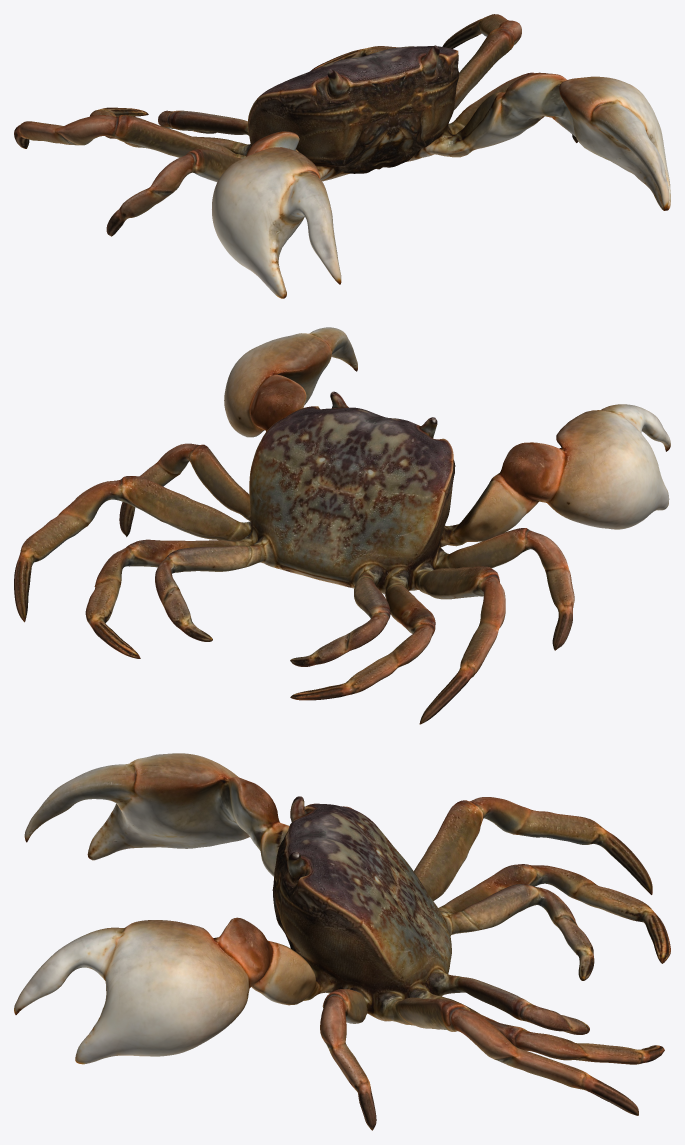
The model's file is crab.obj.
3 views of the same model, one above another, from view 1: azimuth 30°, elevation 25°; view 2: azimuth 150°, elevation 25°; view 3: azimuth 270°, elevation 25° (orthographic). The views are drawn at different scales.
Visible parts, largest first — view 1: smooth_shore_crab; view 2: smooth_shore_crab; view 3: smooth_shore_crab.
Boxes of the visible parts, bbox=[...] form: smooth_shore_crab: bbox=[14, 14, 670, 298]; smooth_shore_crab: bbox=[14, 327, 670, 724]; smooth_shore_crab: bbox=[14, 753, 670, 1130].
Size of the model in its own units: 2.24 by 0.7468 by 2.43.
